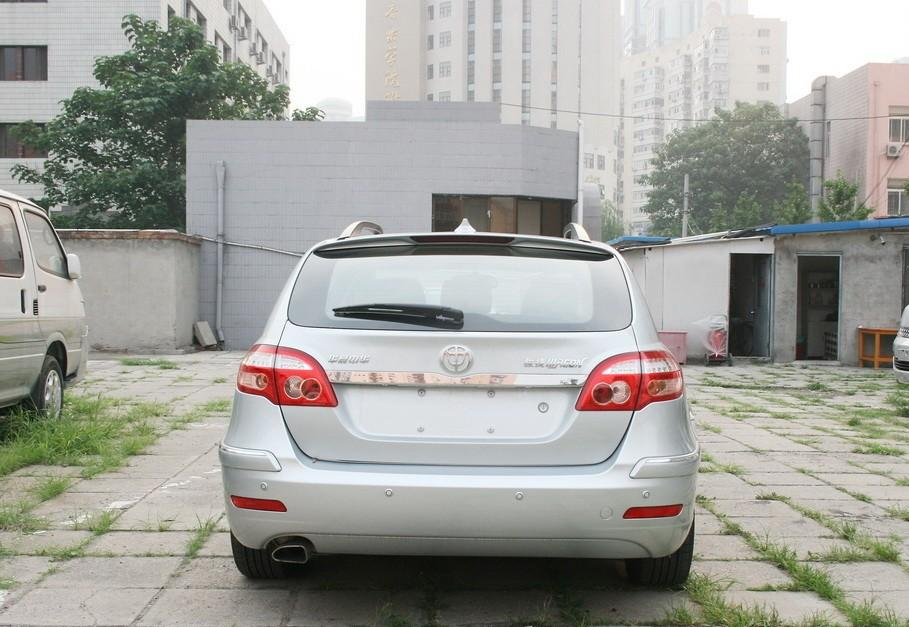Wagon: (220, 220, 700, 586)
